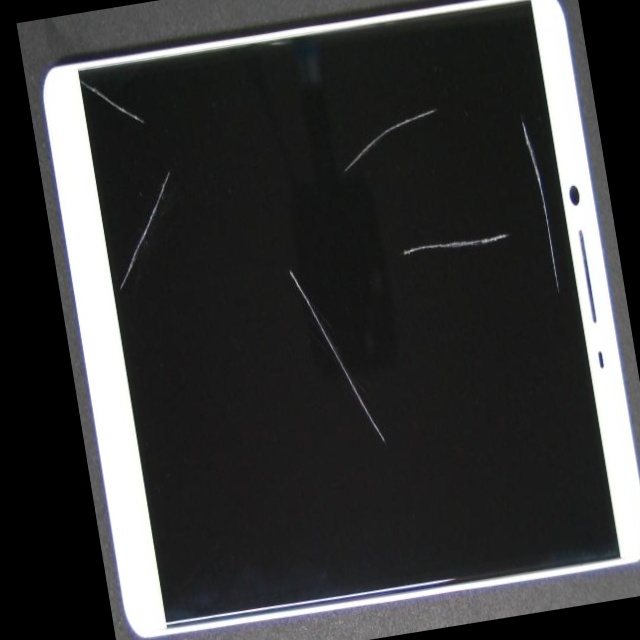scratch: (323, 78, 633, 381)
